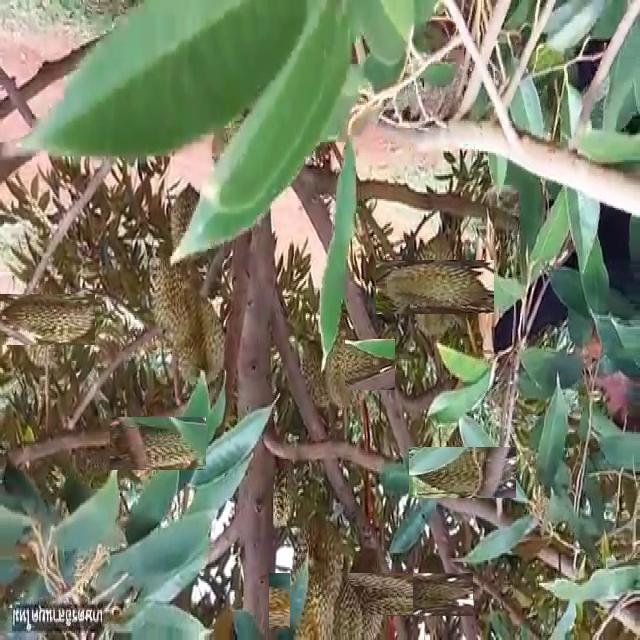durian: (392, 243, 478, 330), (290, 512, 348, 635), (166, 280, 227, 393), (422, 433, 502, 512), (144, 245, 199, 358), (167, 180, 228, 275), (7, 282, 83, 358), (120, 406, 196, 482), (308, 327, 383, 402), (333, 560, 400, 628), (275, 568, 341, 634), (398, 562, 462, 628), (292, 333, 344, 410), (329, 586, 368, 640)
